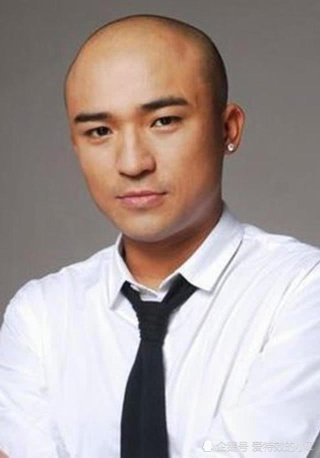male: (51, 9, 265, 275)
